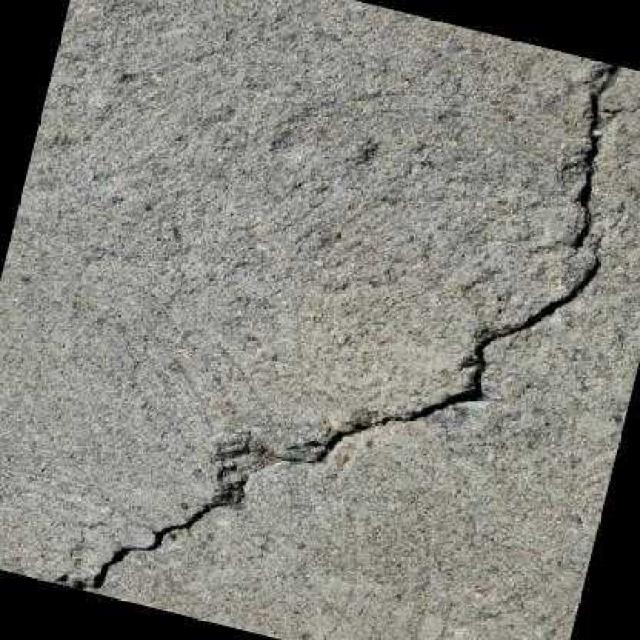D00: (82, 240, 603, 589), (569, 63, 619, 248)
